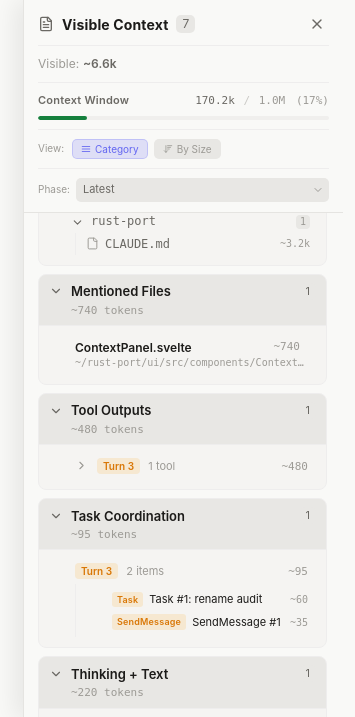
Test case: ContextPanel › renders expected rows inside section bodies
(page scrolled)
Expected: the text "ContextPanel.svelte" is shown, [75,340,192,355]
Click the button "Turn 3 1 tool ~480": {"x": 192, "y": 466} [67,453,316,479]
(page scrolled)
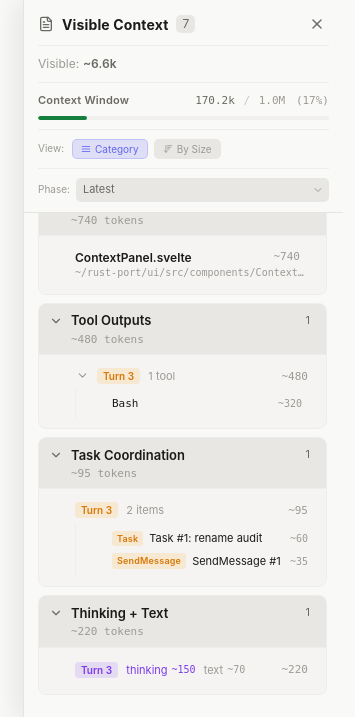
Expected: the text "Task #1: rename audit" is shown, [149,531,262,545]
Expected: the text "Bash" is shown, [112,397,138,410]
Expected: the text "thinking" is shown, [126,663,168,677]
